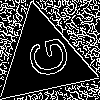G: (18, 34, 71, 83)
